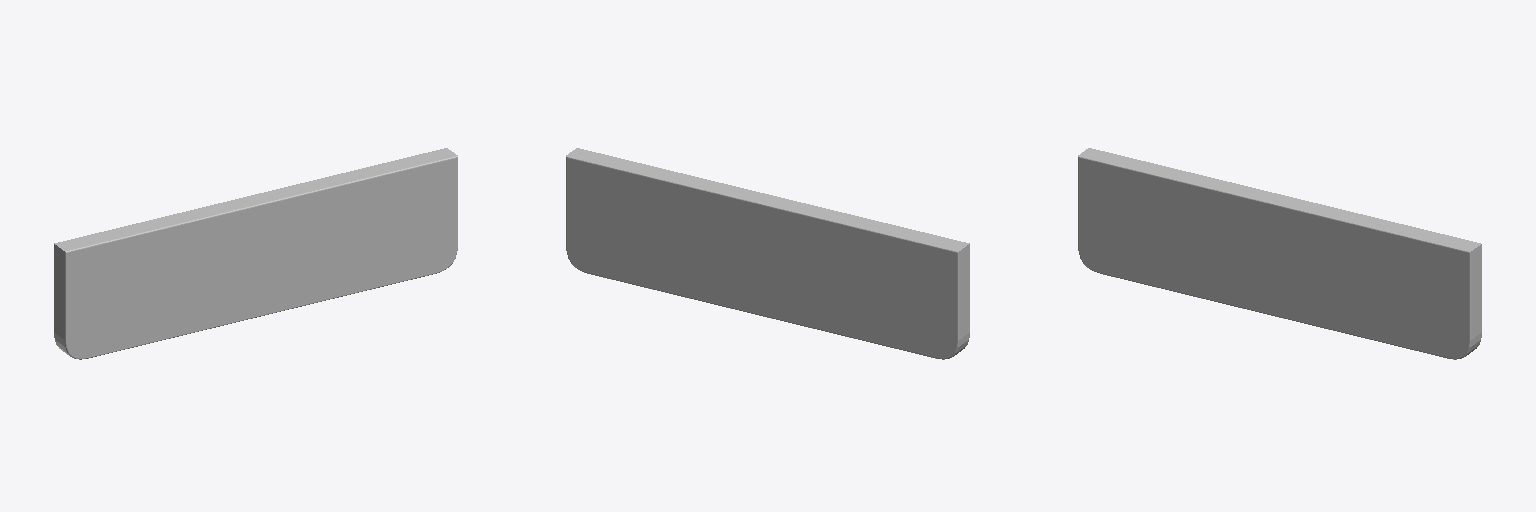
The model's file is shelf.obj.
3 renders of one model, left to right at view 1: azimuth 30°, elevation 25°; view 2: azimuth 150°, elevation 25°; view 3: azimuth 330°, elevation 25°, orthographic.
Parts seen in each view (by area): view 1: shelf; view 2: shelf; view 3: shelf.
Part boxes in pixels (x1,y1,x2,y2): shelf: (54,148,457,359); shelf: (566,148,969,359); shelf: (1078,148,1481,359).
Bounding box in the file's own units: 292 × 80.04 × 15.48.